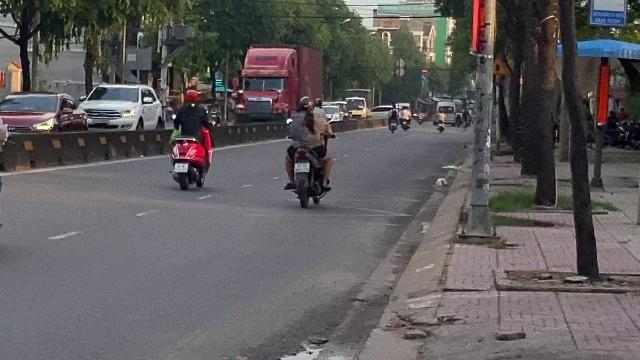helmet: (184, 89, 200, 105), (298, 96, 312, 110)
licenseplate: (294, 163, 310, 173), (175, 164, 188, 172)
motorcyclist: (281, 94, 335, 207), (166, 88, 214, 190)
